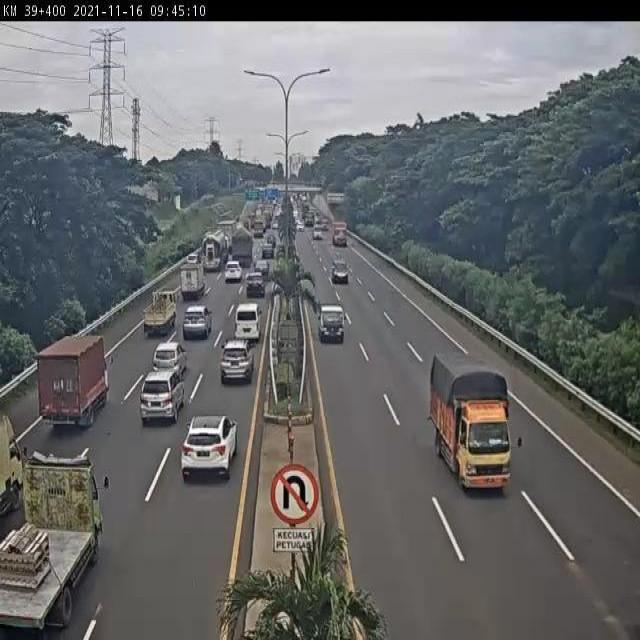car: (182, 417, 234, 479), (140, 372, 184, 424), (220, 339, 253, 384), (152, 343, 186, 376), (236, 302, 263, 342), (179, 309, 208, 343), (320, 305, 345, 343), (223, 257, 244, 283), (244, 275, 265, 300), (333, 260, 351, 283), (252, 260, 270, 280)
mid truck: (230, 228, 257, 271)
small truck: (37, 335, 107, 428), (140, 291, 176, 337), (178, 264, 203, 303)
truck-m-: (0, 452, 107, 629), (430, 354, 514, 498)
truck-xl-: (200, 228, 225, 268)
